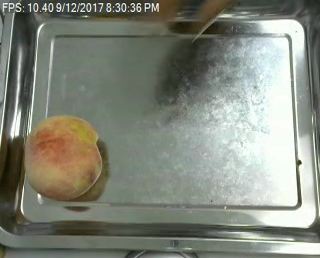Peach: (25, 114, 103, 200)
